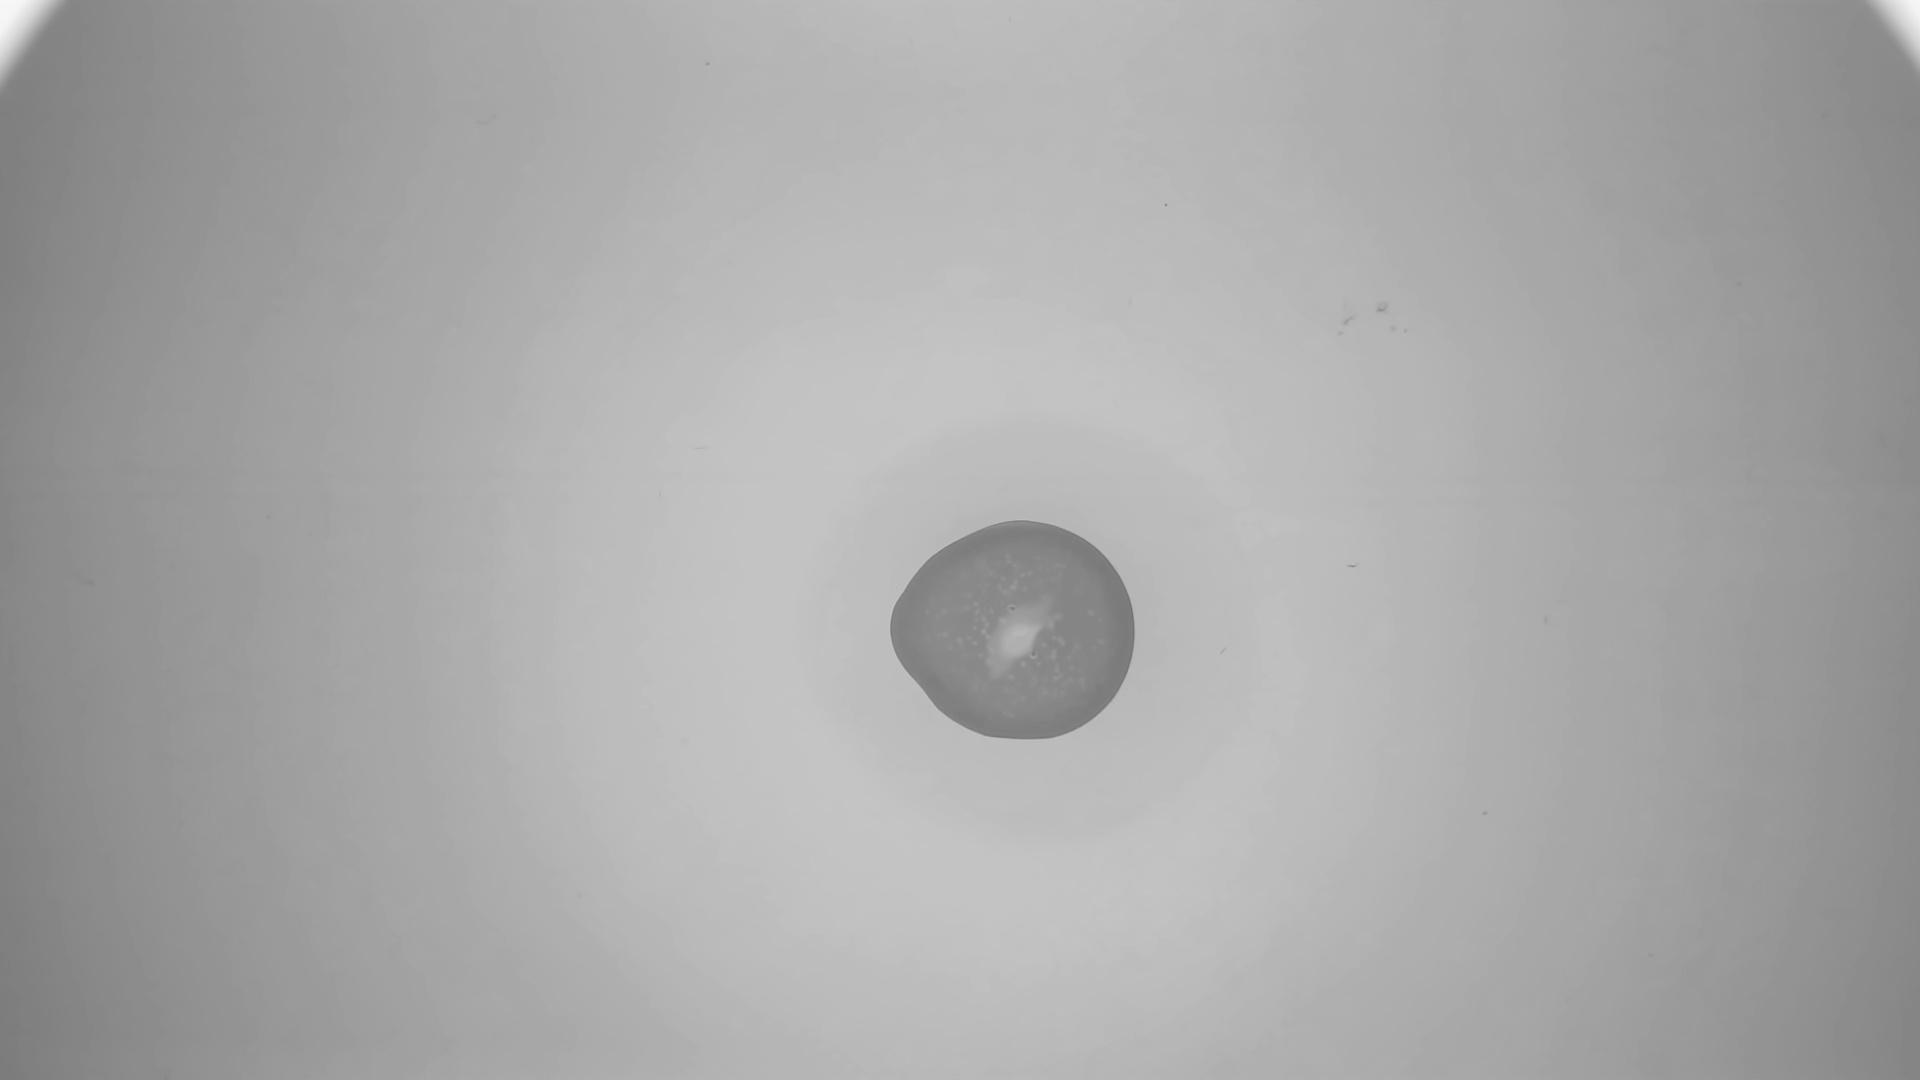abnormal: (890, 524, 1134, 742)
